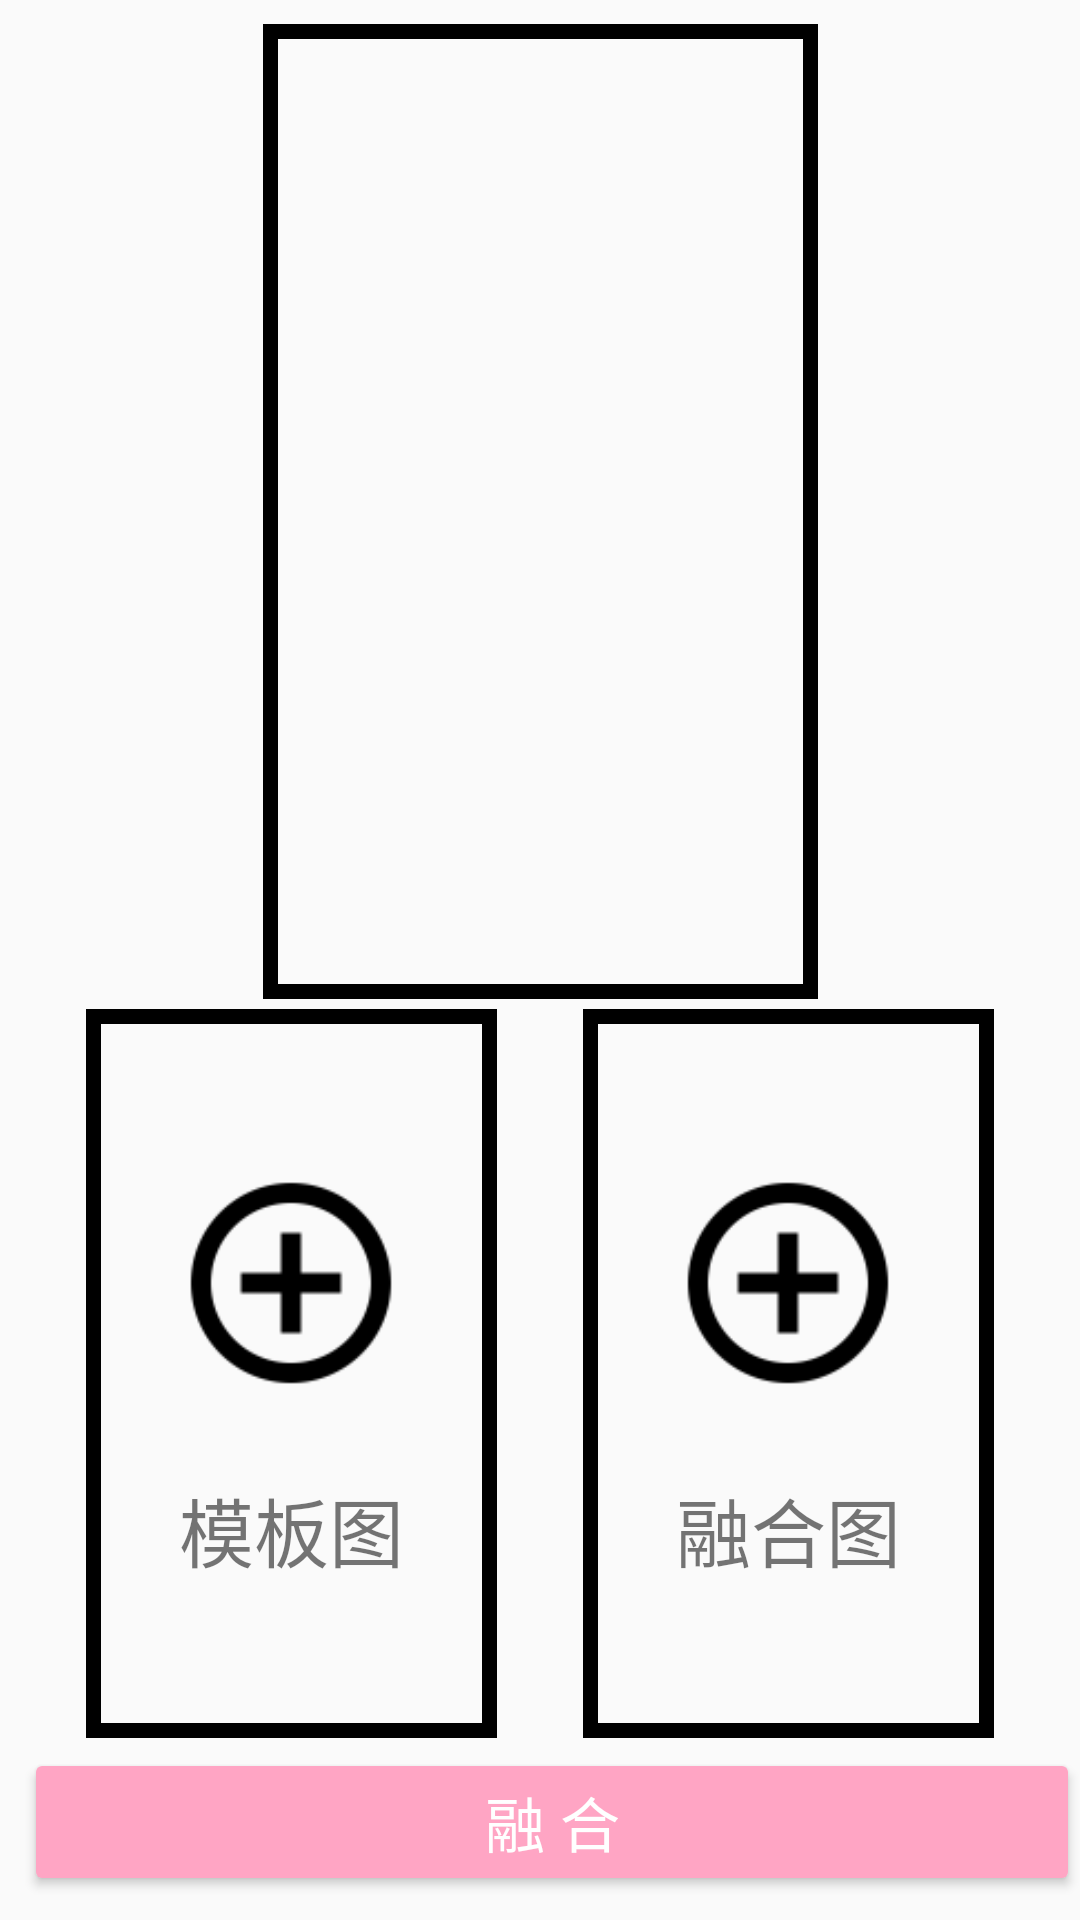

Where icons sit on this 1080×1920 app screen, as (x1, y1, x2, y2):
add circle: (190, 1182, 392, 1384), (687, 1182, 889, 1384)
